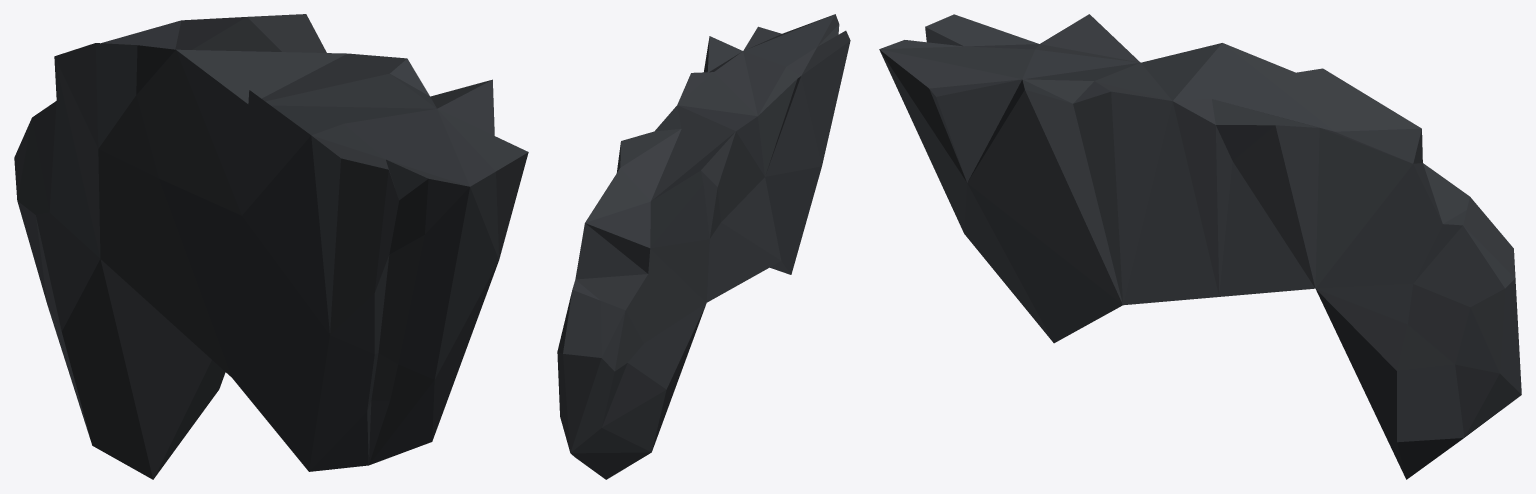
File: SM_Chr_Attach_Hair_Mohawk_01.fbx
3 views of the same model, side by side, from view 1: azimuth 30°, elevation 25°; view 2: azimuth 150°, elevation 25°; view 3: azimuth 270°, elevation 25° (orthographic). The views are drawn at different scales.
Parts seen in each view (by area): view 1: SM_Chr_Attach_Hair_Mohawk_01; view 2: SM_Chr_Attach_Hair_Mohawk_01; view 3: SM_Chr_Attach_Hair_Mohawk_01.
Boxes of the visible parts, x1,y1,x2,y2 form: SM_Chr_Attach_Hair_Mohawk_01: (14,14,528,479); SM_Chr_Attach_Hair_Mohawk_01: (557,14,850,479); SM_Chr_Attach_Hair_Mohawk_01: (879,14,1521,479).
Bounding box in the file's own units: 9.15 × 25.26 × 34.79.
